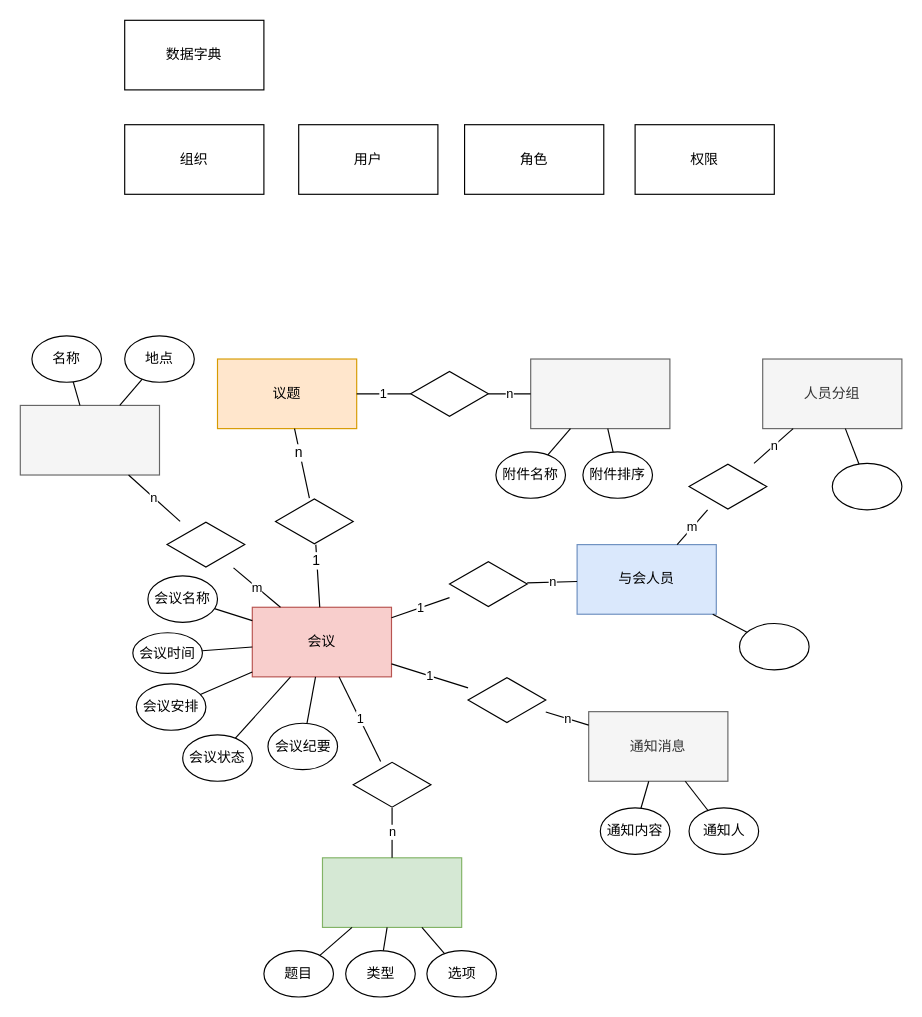
Image size: 922x1017. Some labels were removed from this diagram. Each missing label, with the box of its shape:
会议室: (19, 404, 160, 475)
使用: (166, 520, 245, 568)
关联: (409, 369, 488, 417)
分组名称: (831, 462, 902, 510)
划分: (688, 462, 767, 510)
发起: (352, 760, 431, 808)
发送: (467, 676, 546, 723)
投票: (321, 857, 462, 927)
新建: (274, 497, 353, 545)
签到时间: (738, 622, 809, 670)
选择: (448, 560, 527, 607)
附件: (530, 358, 670, 429)
